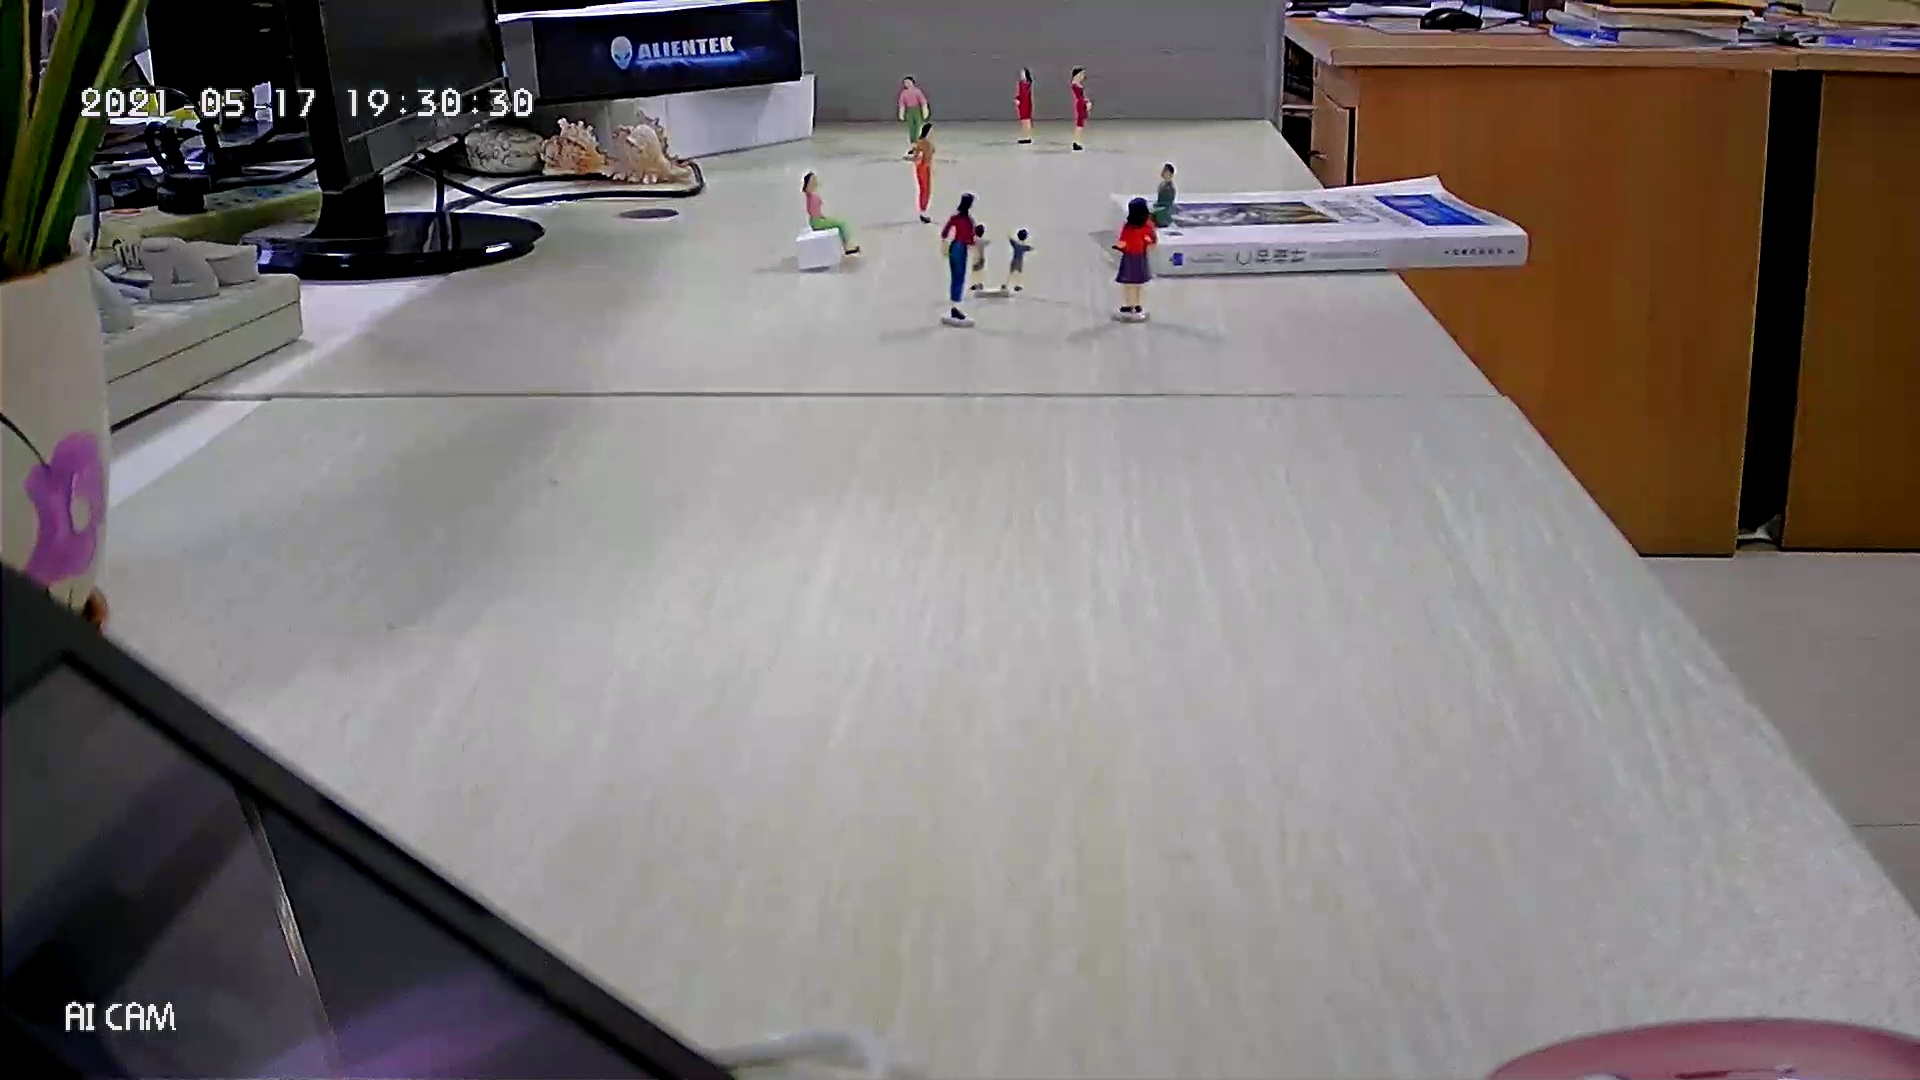person: (1111, 196, 1159, 314), (801, 171, 862, 256), (939, 191, 977, 321), (896, 75, 930, 156), (911, 121, 936, 225), (998, 228, 1038, 294), (1068, 66, 1093, 152), (1012, 65, 1036, 145), (1147, 161, 1176, 229), (967, 224, 991, 292)
